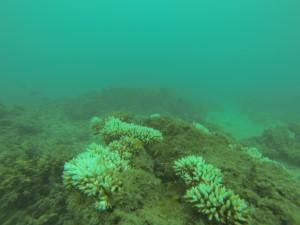bleached_corals: (163, 143, 257, 225), (53, 136, 133, 215), (99, 115, 165, 157), (107, 127, 146, 165), (89, 117, 104, 131)
